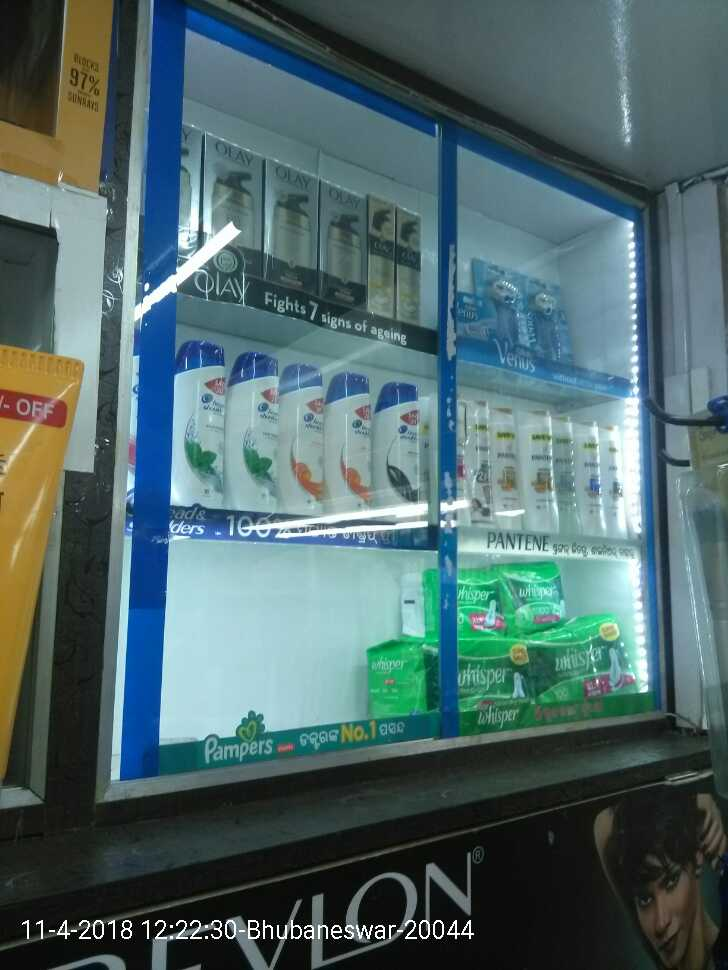venus: (533, 276, 569, 363), (499, 266, 533, 354), (457, 290, 499, 342)
